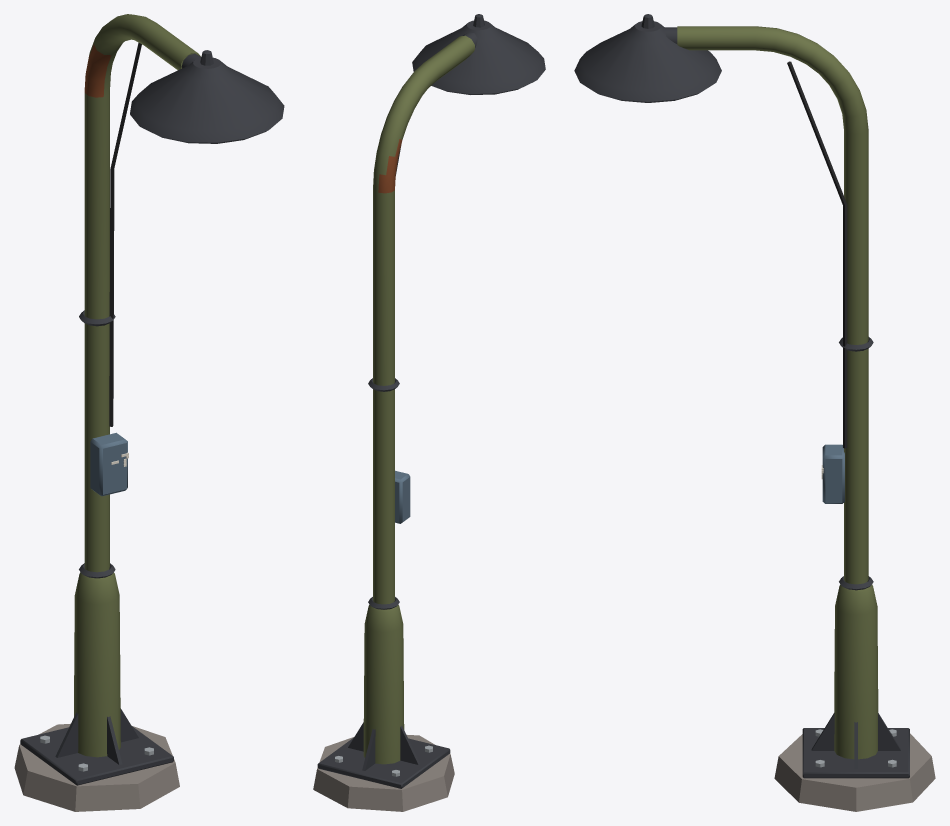
The model's file is deco_streetlamp_single.fbx.
3 views of the same model, side by side, from view 1: azimuth 30°, elevation 25°; view 2: azimuth 150°, elevation 25°; view 3: azimuth 270°, elevation 25° (orthographic). The views are drawn at different scales.
Visible parts, largest first — view 1: Streetlamp_Single_Post, Streetlamp_Single_Base, Streetlamp_Single_Hood; view 2: Streetlamp_Single_Post, Streetlamp_Single_Base, Streetlamp_Single_Hood; view 3: Streetlamp_Single_Post, Streetlamp_Single_Base, Streetlamp_Single_Hood.
Part boxes in pixels (left/top/right/bottom): Streetlamp_Single_Post: left=74, top=14, right=200, bottom=757; Streetlamp_Single_Base: left=14, top=708, right=179, bottom=811; Streetlamp_Single_Hood: left=130, top=50, right=284, bottom=143; Streetlamp_Single_Post: left=363, top=35, right=474, bottom=764; Streetlamp_Single_Base: left=313, top=722, right=454, bottom=811; Streetlamp_Single_Hood: left=412, top=14, right=545, bottom=94; Streetlamp_Single_Post: left=677, top=26, right=878, bottom=759; Streetlamp_Single_Base: left=774, top=713, right=935, bottom=811; Streetlamp_Single_Hood: left=574, top=14, right=721, bottom=102.
Bounding box in the file's own units: 71.5 × 377 × 161.
